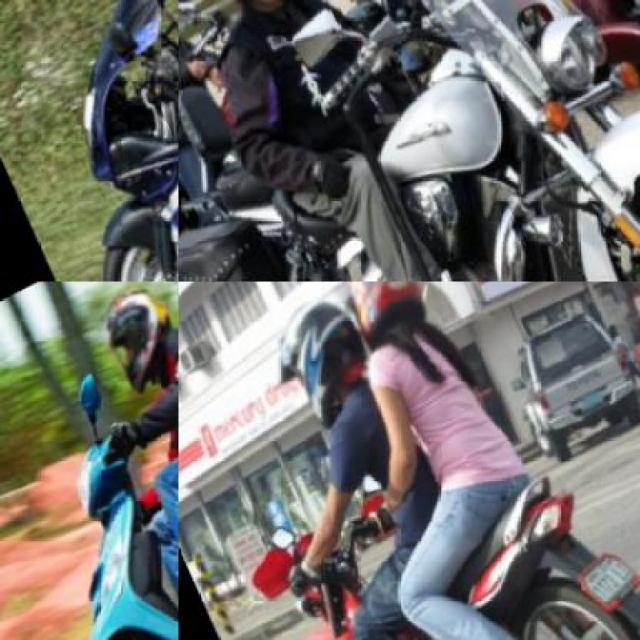With Helmet: (251, 282, 383, 432), (85, 282, 177, 406), (323, 282, 437, 364), (178, 0, 316, 37)
